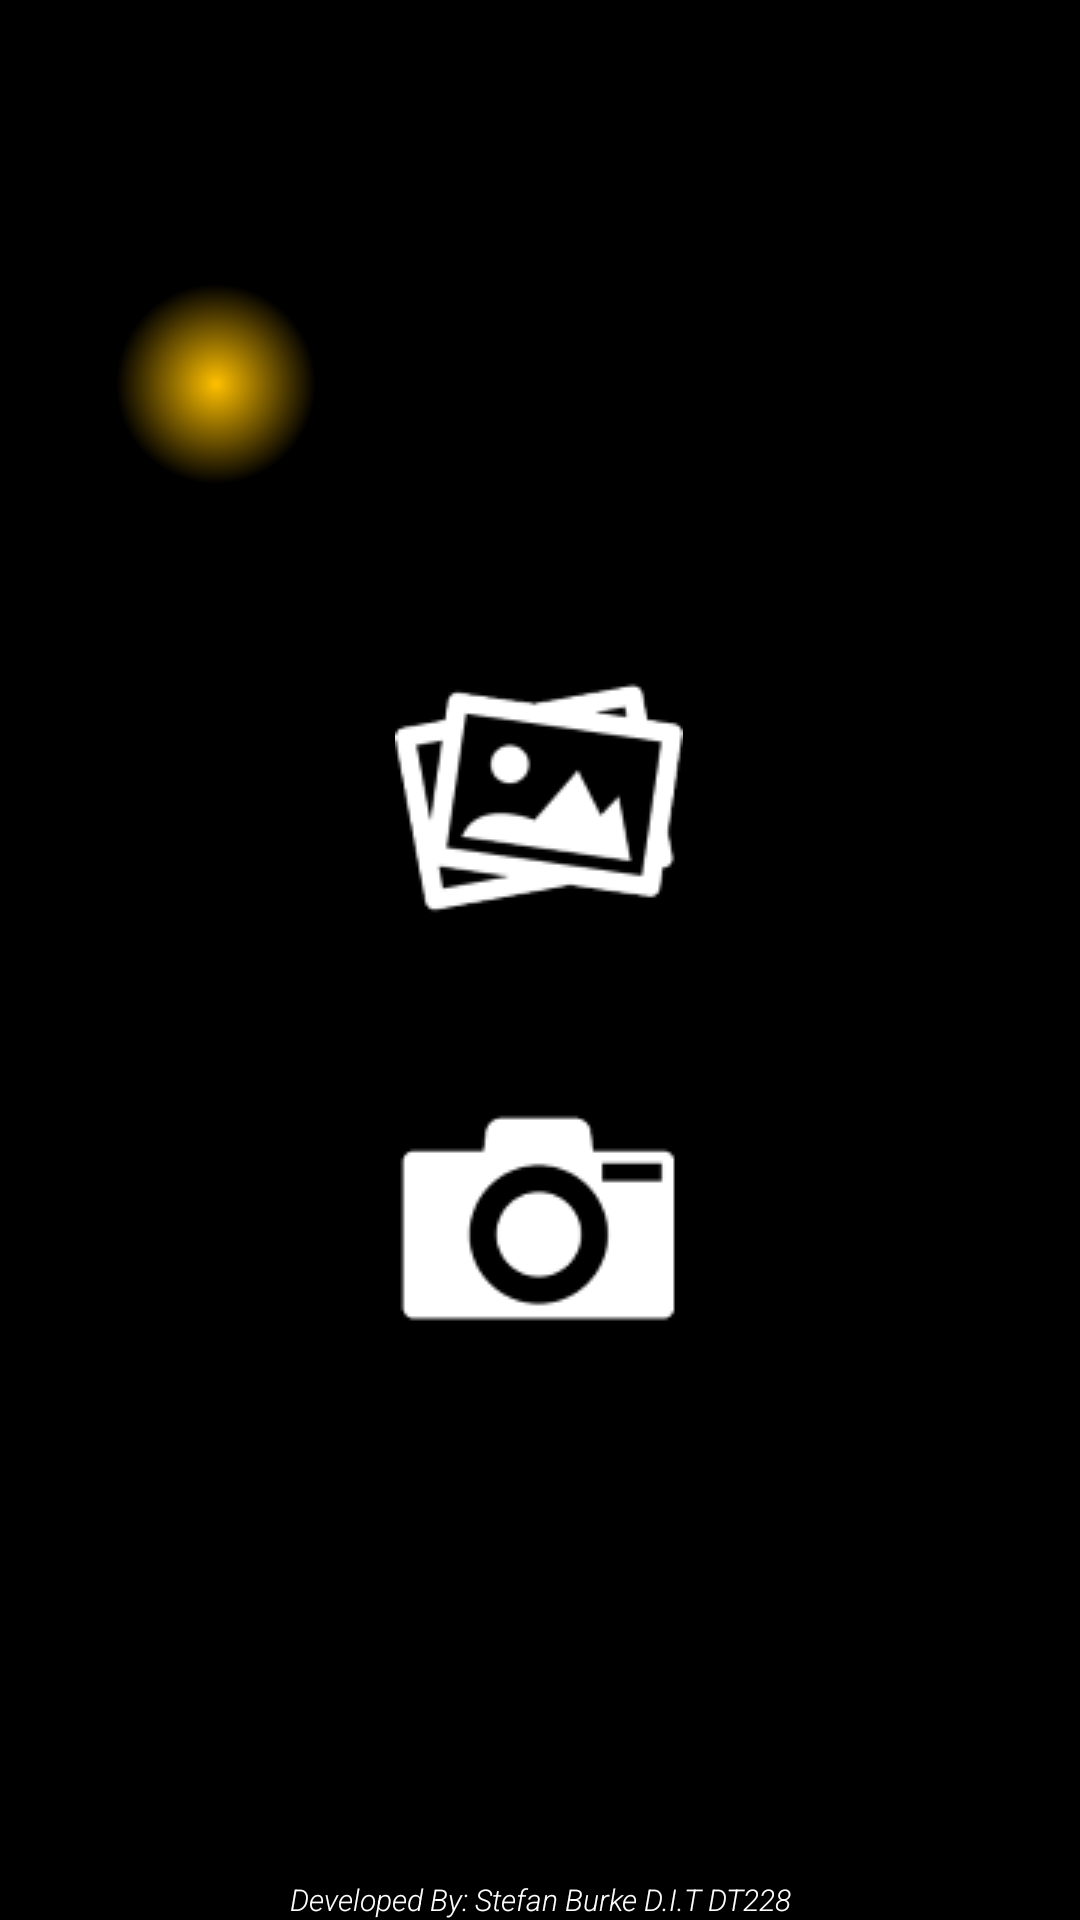

Where icons sit on this 1080x1920 app screen, as (x1, y1, x2, y2):
camera: (400, 1115, 675, 1321)
gallery: (395, 683, 683, 912)
